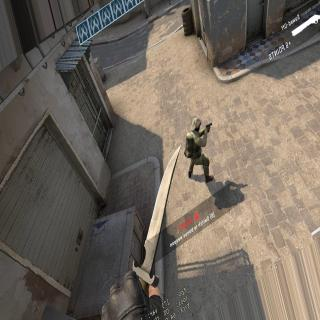CT-Body: (184, 114, 213, 181)
CT-Head: (190, 116, 202, 132)
